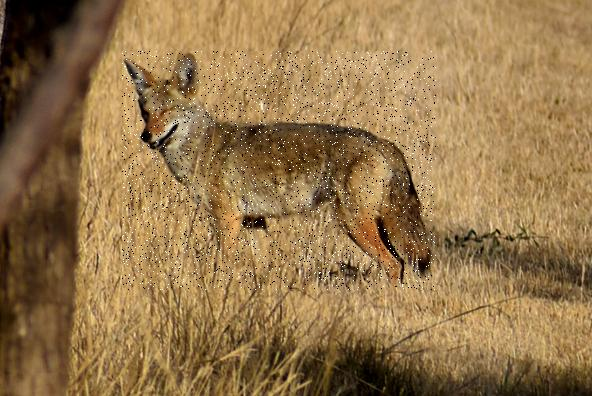Coyote: (123, 52, 437, 291)
